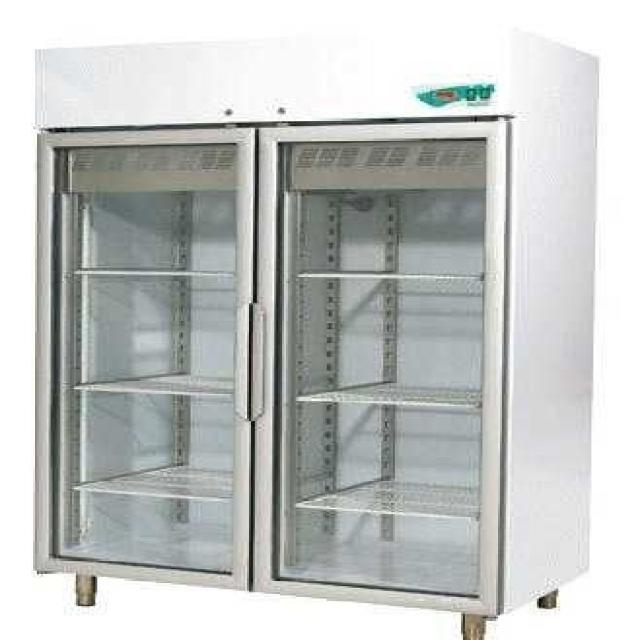refrigerator: (35, 34, 531, 615)
